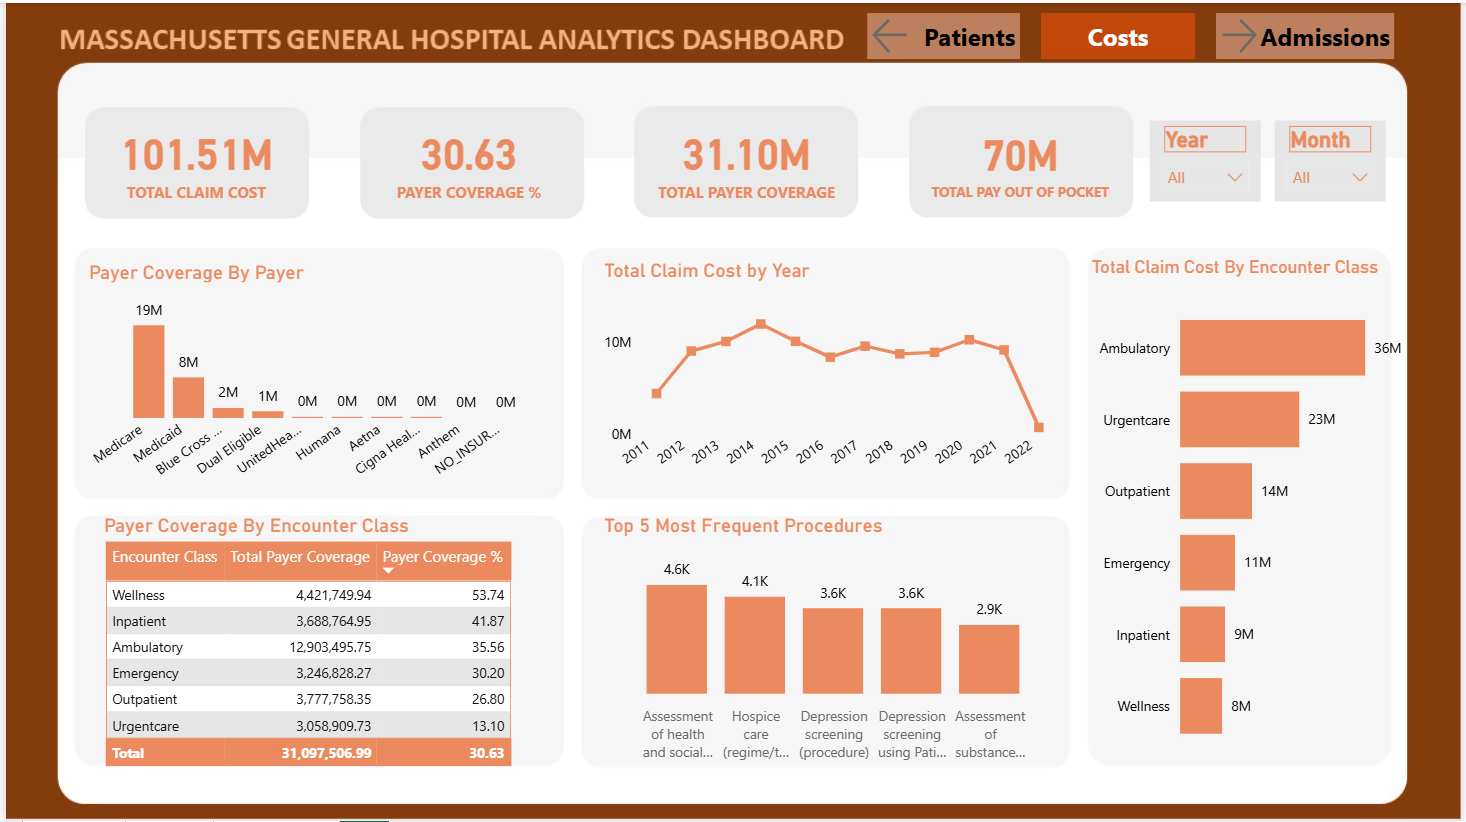

Layout of this report page (visuals, bound fields, positions):
{"tool":"powerbi","page":{"name":"Costs","canvas":[1280,720],"ordinal":1},"visuals":[{"type":"clusteredColumnChart","title":"Top 5 Most Frequent Procedures","fields":{"Category":["procedures.PROCEDURES_DESCRIPTION"],"Y":["CountNonNull(procedures.PROCEDURES_DESCRIPTION)"]},"box":[521.4,450.1,404.8,225],"z":0},{"type":"card","fields":{"Values":["Sum(encounters.TOTAL_CLAIM_COST)"]},"box":[81,97.4,172.9,82.3],"z":1000},{"type":"card","fields":{"Values":["encounters.Payer Coverage %"]},"box":[321.1,97.4,172.9,82.3],"z":2000},{"type":"card","fields":{"Values":["encounters.Total Payer Coverage"]},"box":[565.4,97.4,172.9,82.3],"z":3000},{"type":"clusteredBarChart","title":"Total Claim Cost By Encounter Class","fields":{"Category":["encounters.ENCOUNTER_CLASS"],"Y":["Sum(encounters.TOTAL_CLAIM_COST)"]},"box":[949.6,223.7,282.7,451.5],"z":4000},{"type":"card","fields":{"Values":["encounters.Total Pay out of Pocket"]},"box":[805.5,97.4,172.9,82.3],"z":5000},{"type":"lineChart","title":"Total Claim Cost by Year","fields":{"Y":["Sum(encounters.TOTAL_CLAIM_COST)"],"Category":["encounters.ENCOUNTER_START.Variation.Date Hierarchy.Year"]},"box":[521.4,225,404.8,201.7],"z":6000},{"type":"tableEx","title":"Payer Coverage By Payer","fields":{"Values":["encounters.ENCOUNTER_CLASS","encounters.Total Ins Coverage","encounters.Ins Coverage Percentage"]},"box":[81,450.1,425.4,234.6],"z":7000},{"type":"clusteredColumnChart","title":"Payer Coverage By Payer","fields":{"Category":["payers.PAYERS_NAME"],"Y":["Sum(encounters.PAYER_COVERAGE)"]},"box":[68.6,226.4,404.8,201.7],"z":8000},{"type":"slicer","fields":{"Values":["encounters.ENCOUNTER_START.Variation.Date Hierarchy.Year"]},"box":[1005.8,102.9,97.4,71.4],"z":9000},{"type":"slicer","fields":{"Values":["encounters.Month"]},"box":[1115.6,102.9,97.4,71.4],"z":10000},{"type":"actionButton","box":[1040.1,8.2,172.9,35.7],"z":11000},{"type":"actionButton","box":[891.9,4.1,134.5,39.8],"z":12000}]}

Visuals, with their boxes in screenshot pixels (x1, y1, x2, y2), scaled from the page's 1280x720 canvas onto the 1466x822 screenshot:
"Top 5 Most Frequent Procedures" clusteredColumnChart: 597,514,1061,771
card - Sum(encounters.TOTAL_CLAIM_COST): 93,111,291,205
card - encounters.Payer Coverage %: 368,111,566,205
card - encounters.Total Payer Coverage: 648,111,846,205
"Total Claim Cost By Encounter Class" clusteredBarChart: 1088,255,1411,771
card - encounters.Total Pay out of Pocket: 923,111,1121,205
"Total Claim Cost by Year" lineChart: 597,257,1061,487
"Payer Coverage By Payer" tableEx: 93,514,580,782
"Payer Coverage By Payer" clusteredColumnChart: 79,258,542,489
slicer - encounters.ENCOUNTER_START.Variation.Date Hierarchy.Year: 1152,117,1264,199
slicer - encounters.Month: 1278,117,1389,199
actionButton: 1191,9,1389,50
actionButton: 1022,5,1176,50
